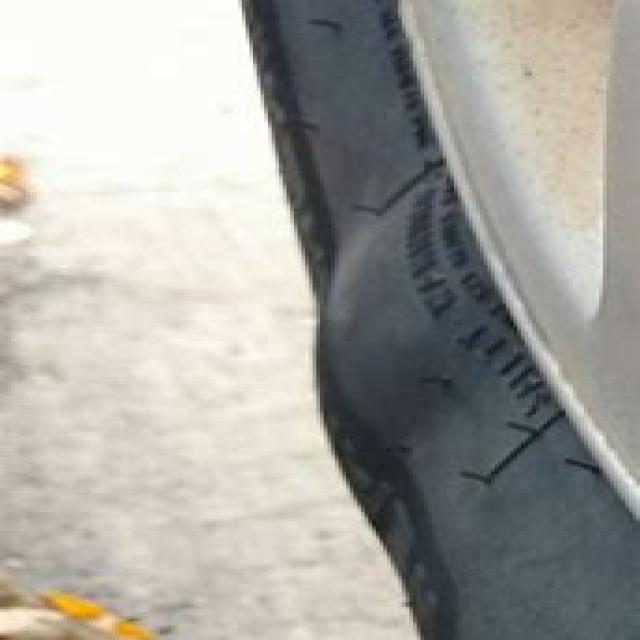Bulge: (284, 197, 474, 560)
